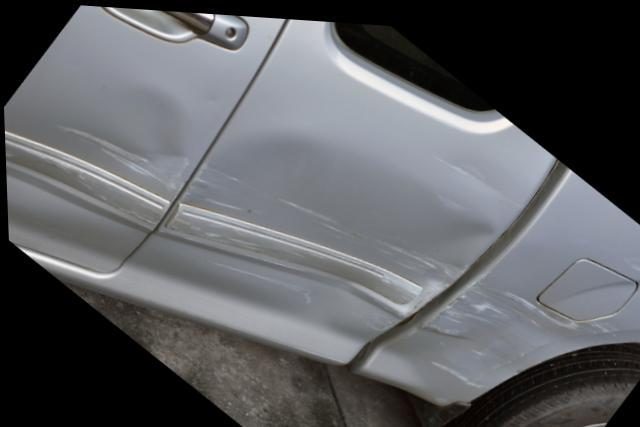dent: (201, 127, 493, 346), (3, 56, 193, 228)
scratch: (410, 266, 617, 387), (617, 245, 640, 262)
